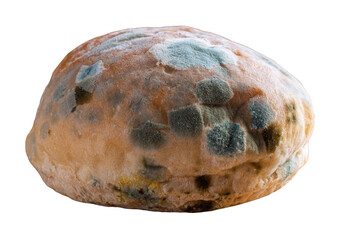mold_bread: (147, 38, 235, 69), (202, 120, 246, 160), (111, 183, 171, 211), (125, 118, 171, 153), (245, 90, 281, 133), (191, 75, 234, 104), (167, 105, 204, 135), (53, 83, 75, 118), (134, 157, 166, 179), (73, 61, 105, 81), (192, 171, 214, 194)
